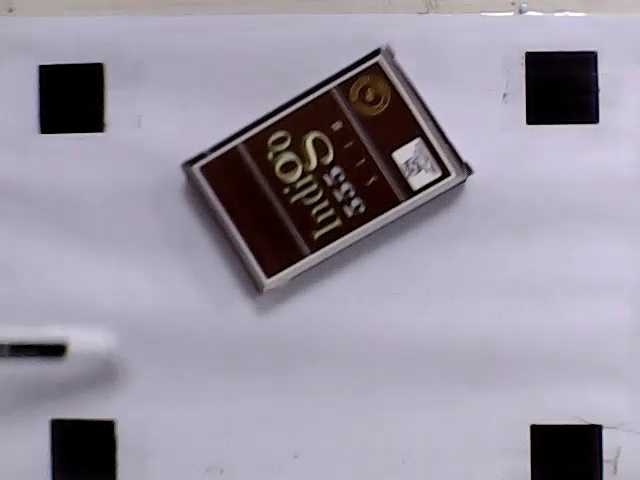BEX: (194, 57, 453, 281)
